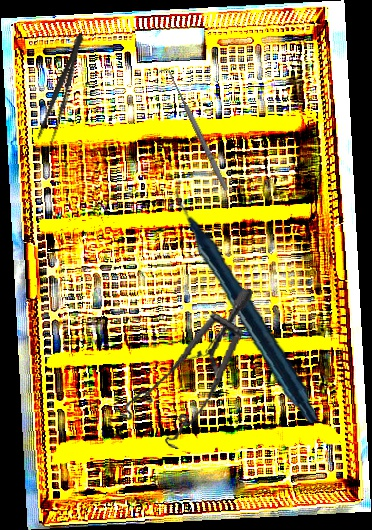Dressing Forceps: (34, 30, 90, 153)
Handpiece: (156, 179, 339, 424)
Hook Surgical: (158, 65, 231, 194)
Speculum: (115, 273, 254, 457)
